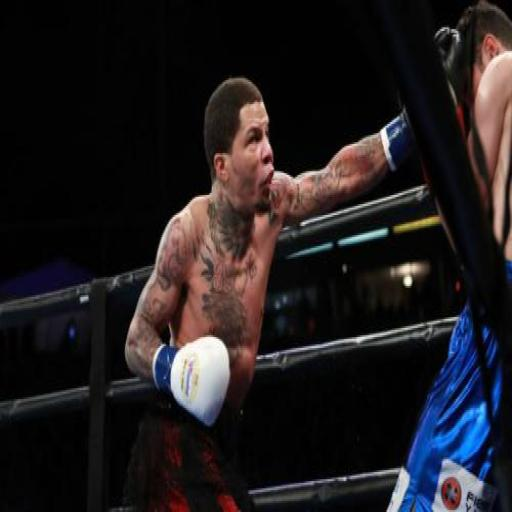boxing: (96, 46, 455, 512)
